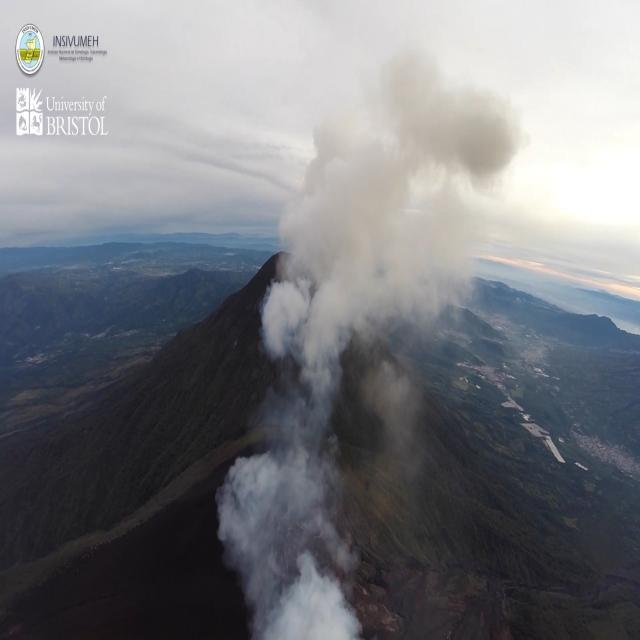Plume: (256, 37, 530, 380), (197, 430, 370, 640)
